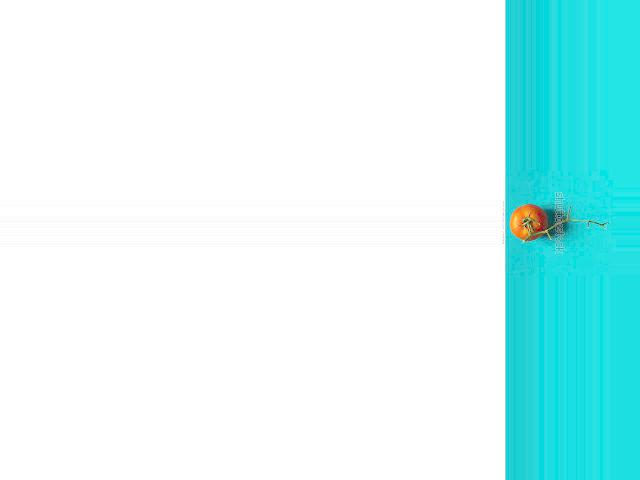tomato: (510, 204, 546, 242)
